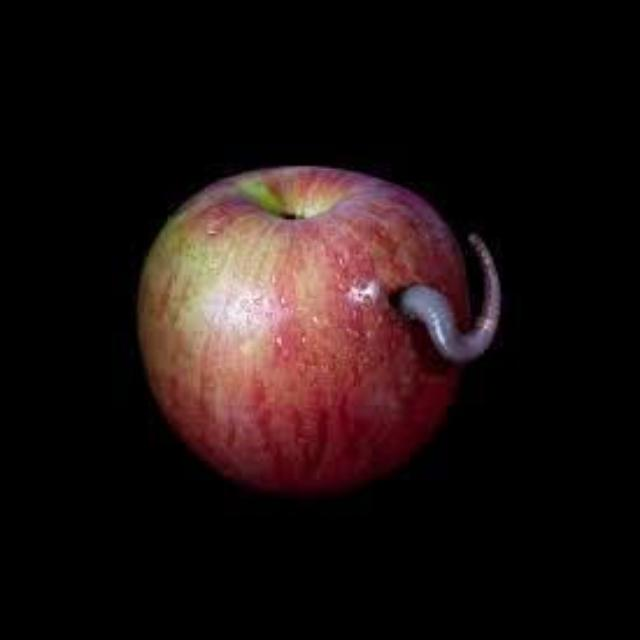apple: (137, 163, 500, 491)
pest: (398, 233, 500, 363)
